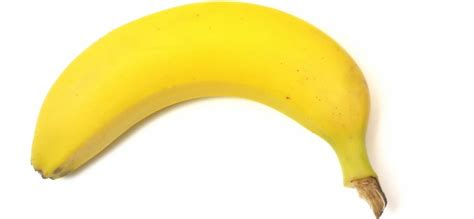banana: (24, 1, 381, 184)
